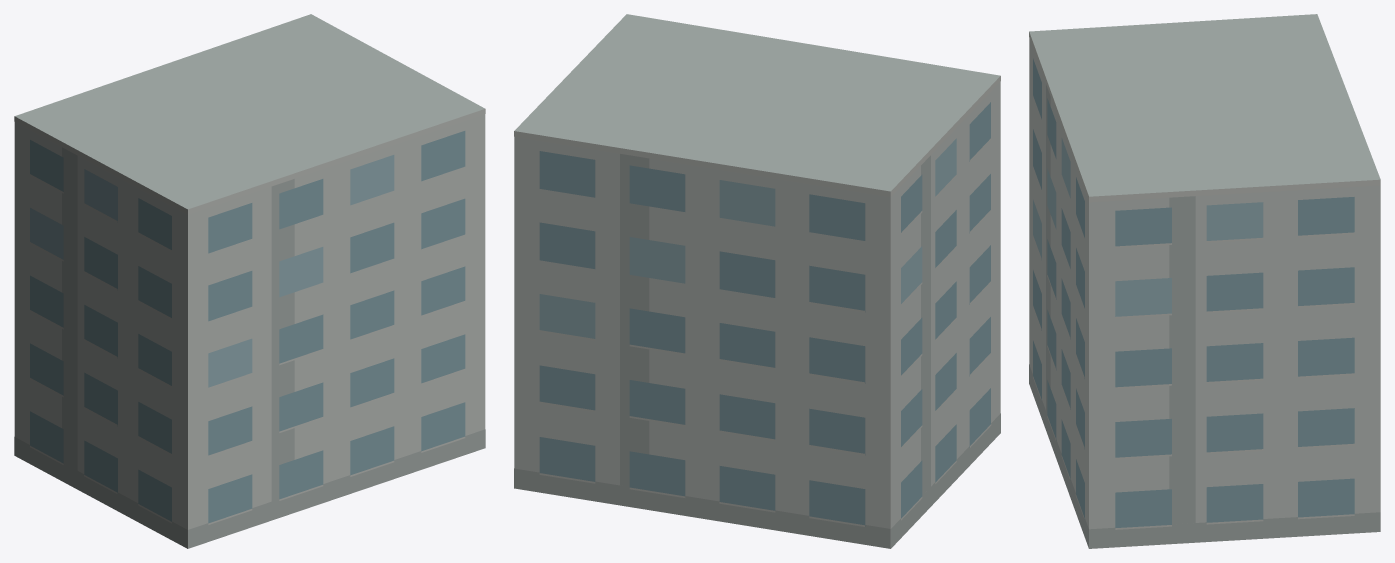
Rendered from survey-upis-32830388.glb.
The picture shows the model from 3 angles, left to right: view 1: azimuth 30°, elevation 25°; view 2: azimuth 150°, elevation 25°; view 3: azimuth 270°, elevation 25°; orthographic projection. The views are drawn at different scales.
Visible parts, largest first — view 1: survey-upis-32830388.tmp; view 2: survey-upis-32830388.tmp; view 3: survey-upis-32830388.tmp.
Part boxes in pixels (left/top/right/bottom): survey-upis-32830388.tmp: left=14, top=14, right=485, bottom=548; survey-upis-32830388.tmp: left=514, top=14, right=1000, bottom=548; survey-upis-32830388.tmp: left=1029, top=14, right=1380, bottom=548.
Bounding box in the file's own units: 16.92 × 15.2 × 13.76.
